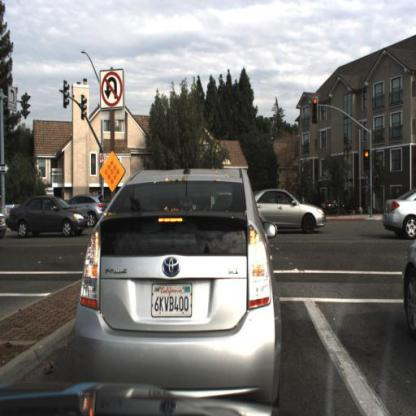car: (72, 165, 283, 388), (256, 173, 329, 240), (8, 195, 92, 239), (251, 191, 328, 233), (400, 230, 416, 337), (385, 189, 416, 242)
trafficLight-Red: (362, 146, 374, 174), (312, 92, 322, 125)
